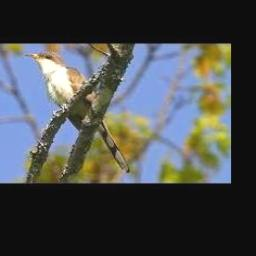Cuckoo: (24, 52, 129, 173)
